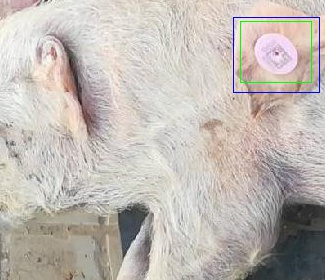text: (240, 21, 311, 82)
